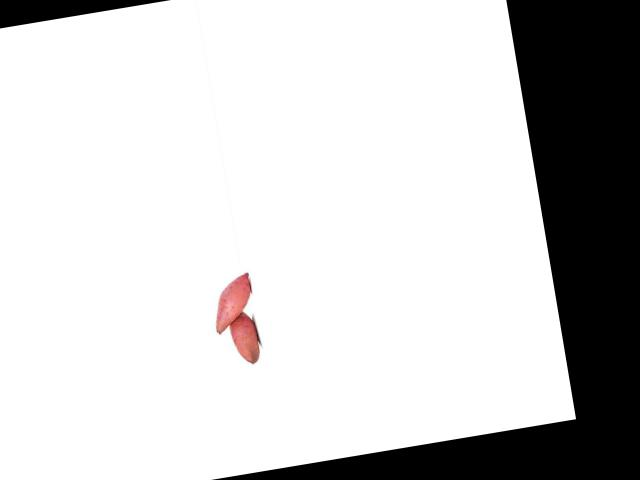sweet_potato: (223, 305, 262, 368)
